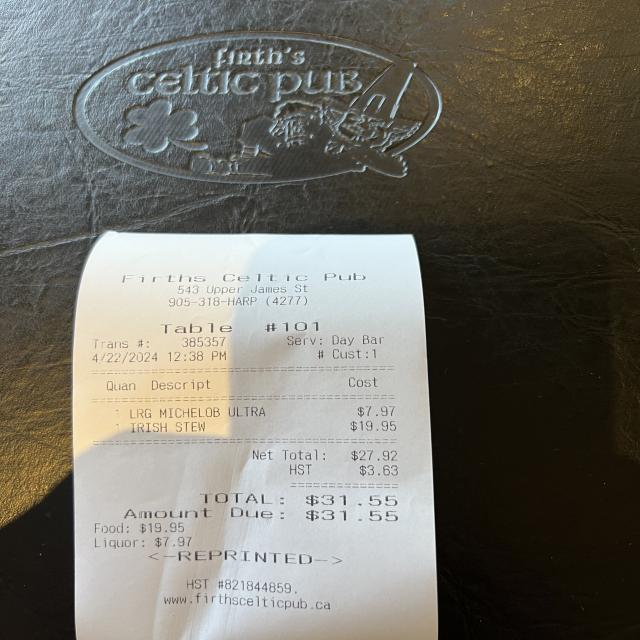item: (124, 419, 400, 436), (123, 403, 400, 419)
store_name: (114, 269, 374, 287)
total_amount: (195, 487, 402, 509)
transaction_date: (88, 349, 164, 367)
